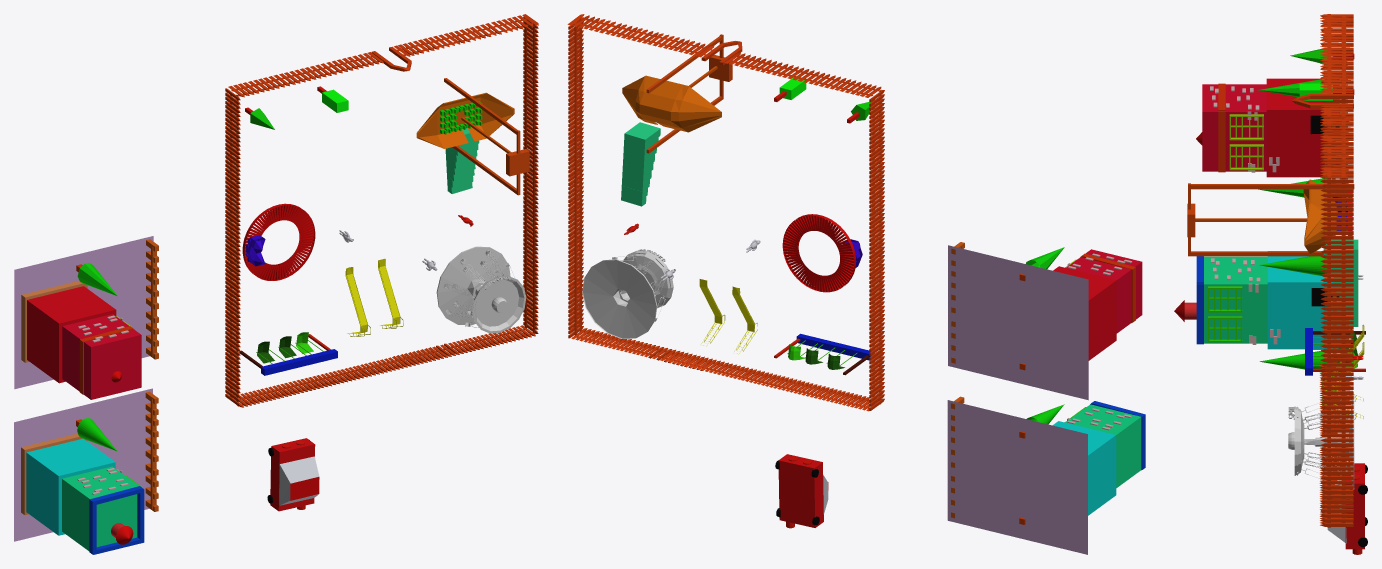
File: project.obj
The picture shows the model from 3 angles, left to right: view 1: azimuth 30°, elevation 25°; view 2: azimuth 150°, elevation 25°; view 3: azimuth 270°, elevation 25°; orthographic projection. The views are drawn at different scales.
Visible parts, largest first — view 1: house, wall, ground, building_2, building_1, ship, base, car, game, rail_way, columns_ship, stair (+5 smaller); view 2: house, wall, ground, base, ship, car, rail_way, stair, building_1, building_2, game, columns_ship (+1 smaller); view 3: wall, house, building_1, building_2, columns_ship, ship, car, game, window, stair, roof.001, swing_column (+6 smaller).
Boxes of the visible parts, x1,y1,x2,y2 form: house: [14, 388, 158, 554]; wall: [225, 14, 538, 407]; ground: [14, 236, 153, 389]; building_2: [62, 314, 141, 399]; building_1: [27, 286, 116, 383]; ship: [416, 92, 514, 153]; base: [436, 246, 510, 325]; car: [267, 438, 319, 511]; game: [443, 250, 526, 333]; rail_way: [242, 203, 315, 280]; columns_ship: [444, 78, 529, 195]; stair: [445, 128, 479, 193]; house: [947, 396, 1145, 554]; wall: [567, 14, 884, 411]; ground: [948, 245, 1088, 400]; base: [582, 259, 657, 338]; ship: [622, 66, 721, 132]; car: [775, 454, 828, 528]; rail_way: [782, 214, 855, 292]; stair: [621, 122, 660, 206]; building_1: [1053, 266, 1116, 360]; building_2: [1066, 249, 1142, 333]; game: [612, 249, 673, 321]; columns_ship: [646, 34, 732, 153]; wall: [1292, 14, 1353, 527]; house: [1174, 251, 1351, 414]; building_1: [1266, 78, 1339, 177]; building_2: [1202, 84, 1266, 171]; columns_ship: [1187, 183, 1354, 256]; ship: [1195, 179, 1336, 254]; car: [1327, 463, 1367, 554]; game: [1288, 399, 1348, 485]; window: [1229, 114, 1263, 170]; stair: [1323, 239, 1358, 326]; roof.001: [1218, 83, 1225, 172]; swing_column: [1305, 328, 1365, 375].
Size of the model in its own units: 27.24 by 22.39 by 7.91.
